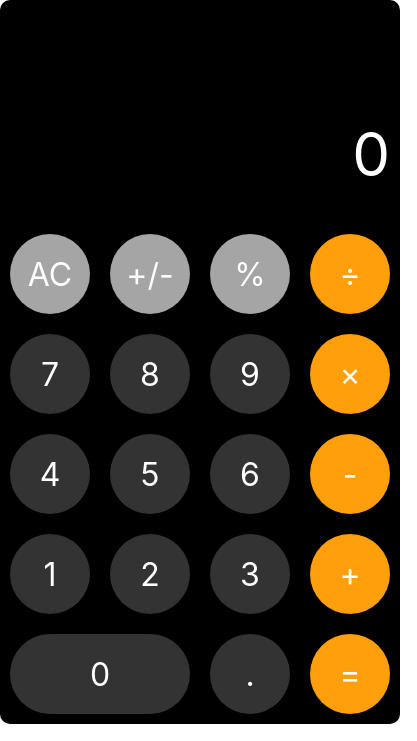
Test: Calculator › ACTIONS › should correctly evenly divisible
This screenshot has width=417, height=741.
Click the element with test id "1": click(50, 574) x1=10 y1=534 x2=90 y2=614
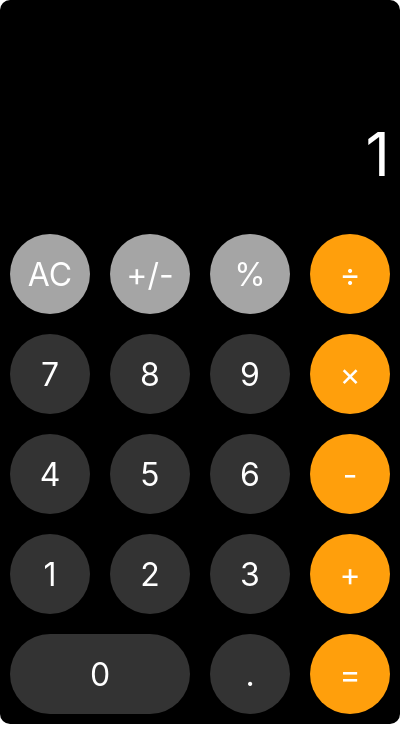
Click the element with test id "2": click(150, 574) x1=110 y1=534 x2=190 y2=614
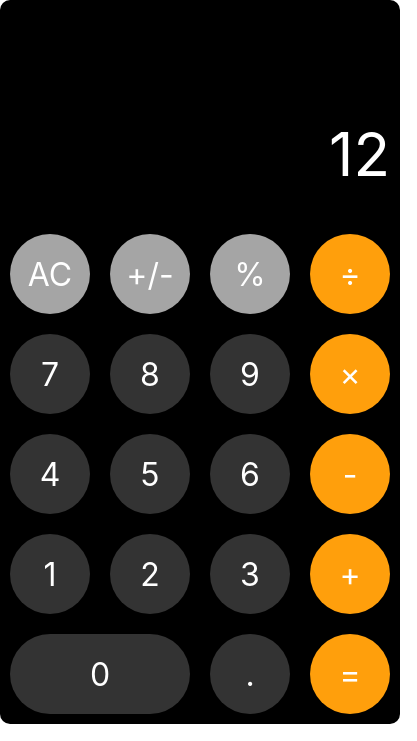
Click the element with test id "%": click(250, 274) x1=210 y1=234 x2=290 y2=314
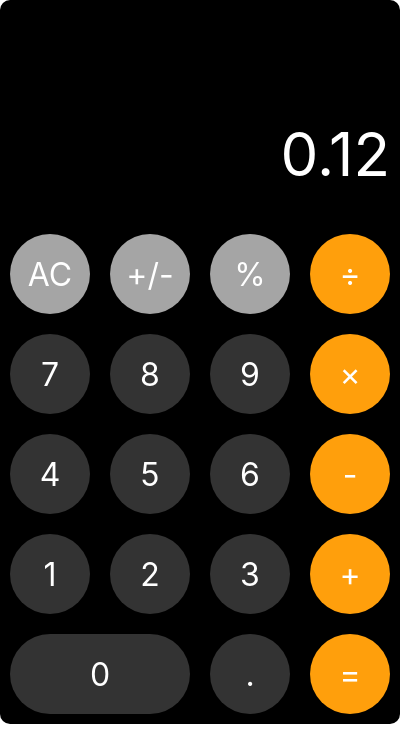
Result: the text with test id "calculator-result" reads "0.12" at x1=281 y1=118 x2=390 y2=190
